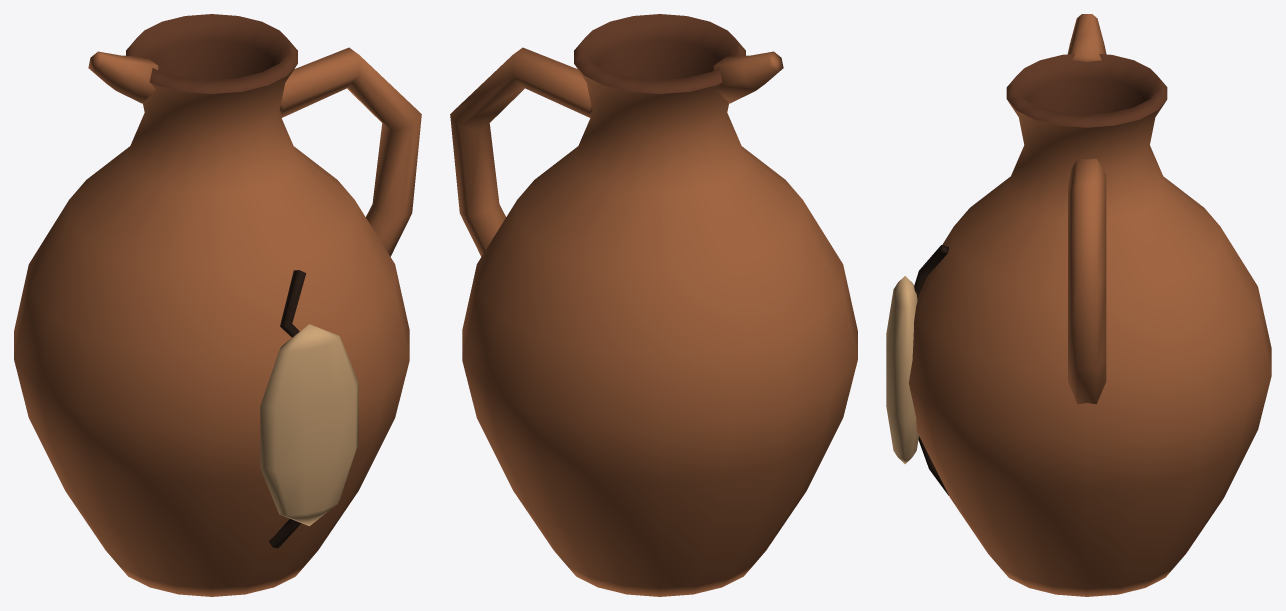
The model's file is obj-kuvshin-podmazannyy.glb.
The picture shows the model from 3 angles, left to right: view 1: azimuth 30°, elevation 25°; view 2: azimuth 150°, elevation 25°; view 3: azimuth 270°, elevation 25°; orthographic projection. The views are drawn at different scales.
Parts seen in each view (by area): view 1: obj-kuvshin-podmazannyy; view 2: obj-kuvshin-podmazannyy; view 3: obj-kuvshin-podmazannyy.
Part boxes in pixels (<box>): obj-kuvshin-podmazannyy: <box>14,14,421,596</box>; obj-kuvshin-podmazannyy: <box>450,14,857,596</box>; obj-kuvshin-podmazannyy: <box>886,14,1271,596</box>.
Size of the model in its own units: 0.2351 by 0.3142 by 0.2221.
